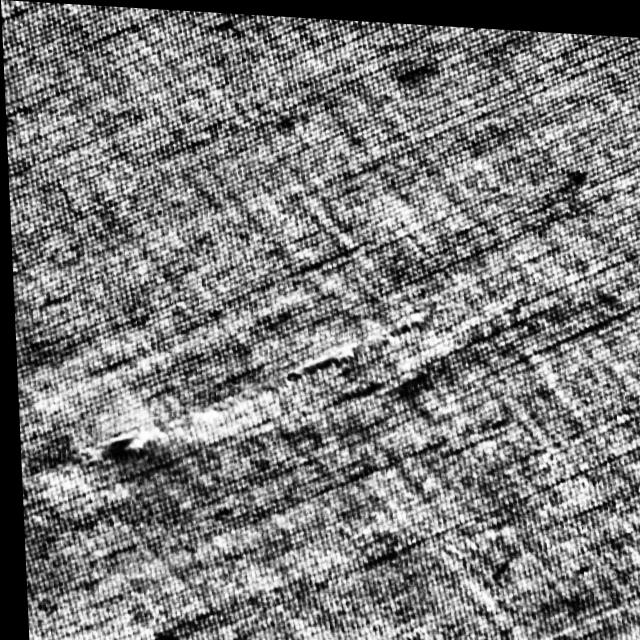Stitch: (84, 368, 286, 475)
